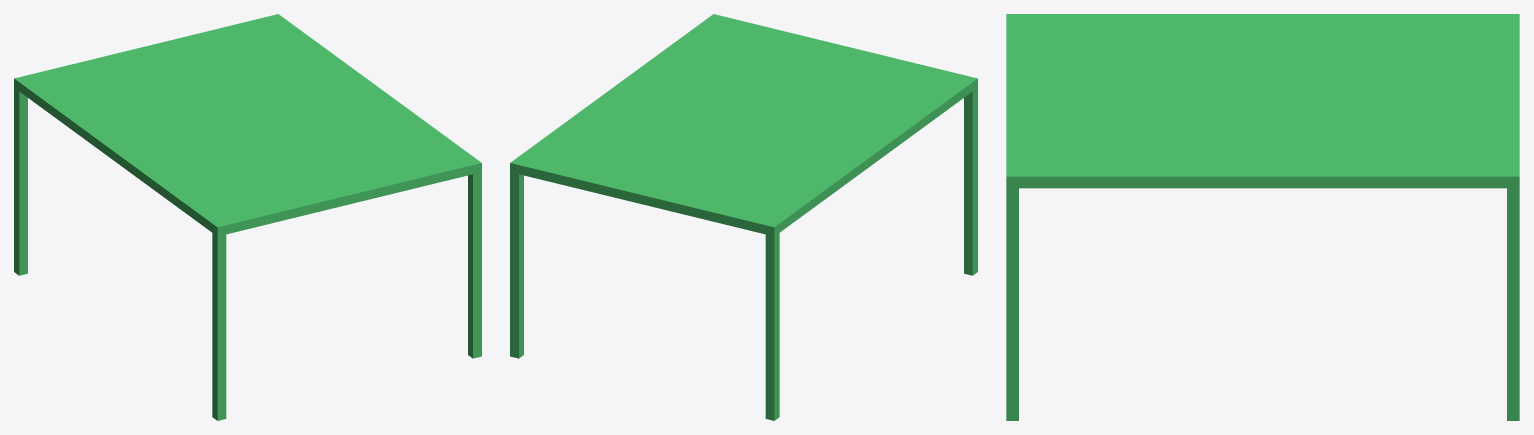
Rendered from simple-table.obj.
3 renders of one model, left to right at view 1: azimuth 30°, elevation 25°; view 2: azimuth 150°, elevation 25°; view 3: azimuth 270°, elevation 25°, orthographic. The views are drawn at different scales.
Visible parts, largest first — view 1: Cube, Cube.003_Cube.007, Cube.001_Cube.005, Cube.002_Cube.006; view 2: Cube, Cube.002_Cube.006, Cube.004, Cube.003_Cube.007; view 3: Cube, Cube.004, Cube.001_Cube.005.
Boxes of the visible parts, x1,y1,x2,y2 form: Cube: (14,14,481,236); Cube.003_Cube.007: (212,233,226,420); Cube.001_Cube.005: (468,172,481,358); Cube.002_Cube.006: (14,88,27,275); Cube: (510,14,977,236); Cube.002_Cube.006: (765,233,779,420); Cube.004: (510,172,523,358); Cube.003_Cube.007: (964,88,977,275); Cube: (1006,14,1519,188); Cube.004: (1507,188,1519,420); Cube.001_Cube.005: (1006,188,1018,420).
Size of the model in its own units: 6 by 4.2 by 8.
